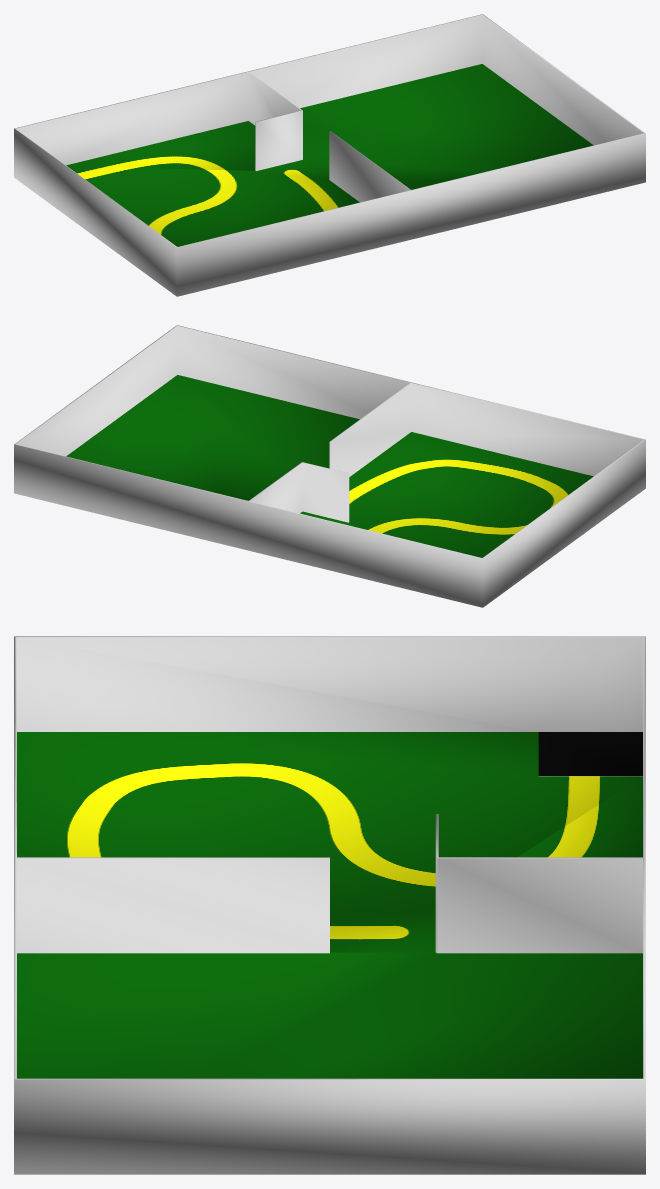
The model's file is origin.dae.
The picture shows the model from 3 angles, top to bottom: view 1: azimuth 30°, elevation 25°; view 2: azimuth 150°, elevation 25°; view 3: azimuth 270°, elevation 25°; orthographic projection. The views are drawn at different scales.
Visible parts, largest first — view 1: origin; view 2: origin; view 3: origin.
Boxes of the visible parts, bbox=[...] form: origin: bbox=[14, 14, 645, 296]; origin: bbox=[14, 325, 645, 607]; origin: bbox=[14, 636, 645, 1174].
Bounding box in the file's own units: 3.62 × 2.18 × 0.361.
Materials: 3 (1 with a texture image).
